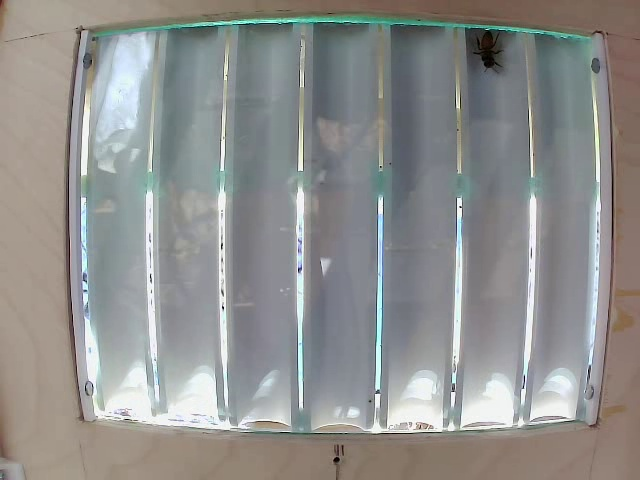bee: (463, 22, 509, 78)
